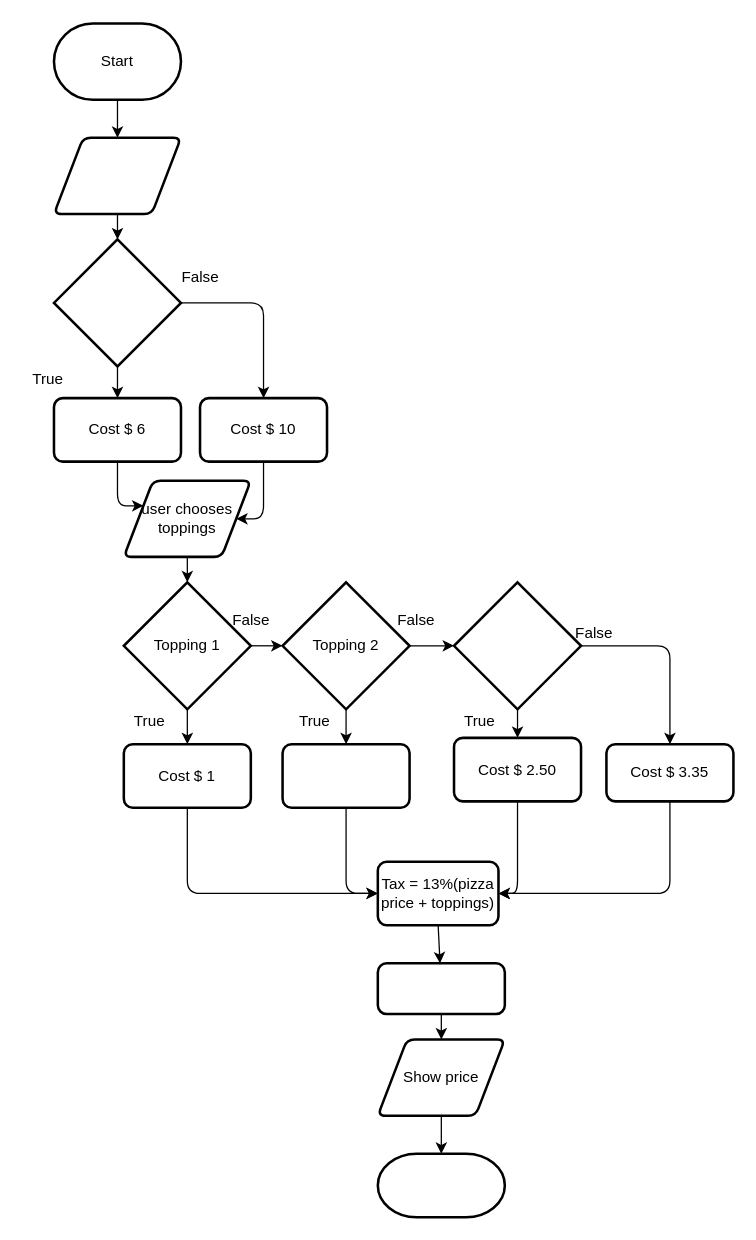
Image size: 756x1240. Some labels were removed from this diagram. Each missing label, with the box of its shape:
Cost $ 1.75: (281, 742, 410, 808)
Final price = pizza + toppings + tax: (376, 961, 505, 1015)
Large pizza: (52, 237, 182, 367)
Stop: (376, 1152, 505, 1218)
Topping 3: (452, 580, 582, 710)
User chooses pizza size: (52, 136, 182, 215)
